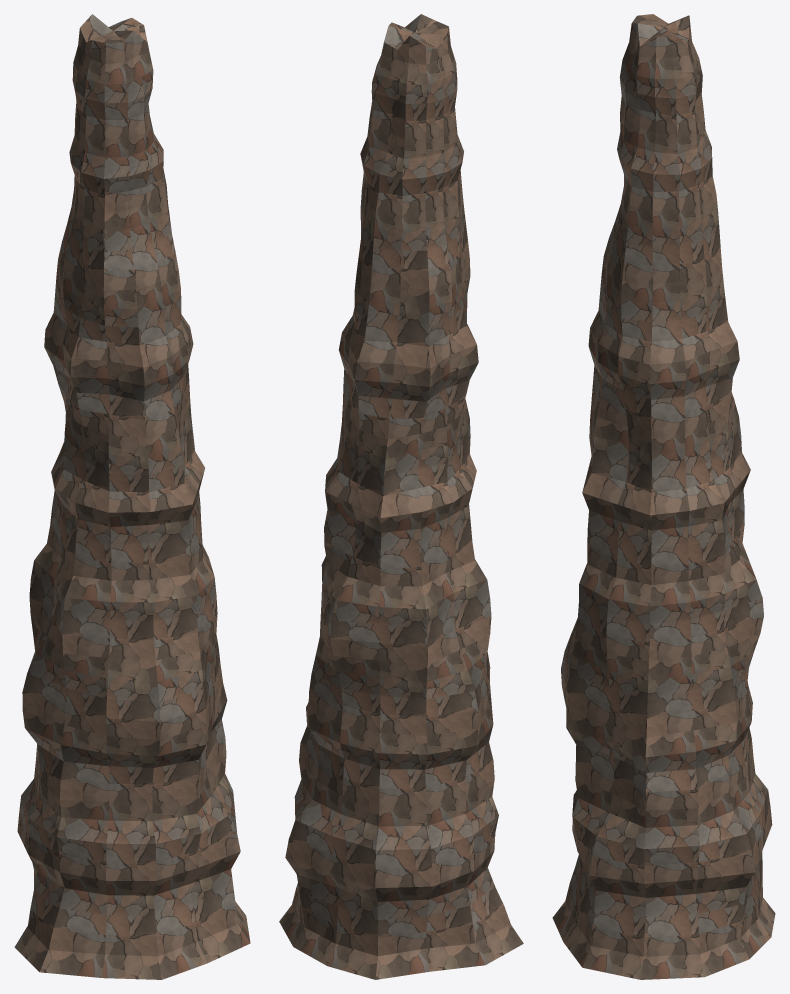
The model's file is CanyonSpireS_Stump.gltf.
The picture shows the model from 3 angles, left to right: view 1: azimuth 30°, elevation 25°; view 2: azimuth 150°, elevation 25°; view 3: azimuth 270°, elevation 25°; orthographic projection.
Visible parts, largest first — view 1: CanyonSpireS_Stump; view 2: CanyonSpireS_Stump; view 3: CanyonSpireS_Stump.
Part boxes in pixels (x1,y1,x2,y2): CanyonSpireS_Stump: (14,14,250,979); CanyonSpireS_Stump: (279,14,523,979); CanyonSpireS_Stump: (552,14,775,979).
Bounding box in the file's own units: 24.59 × 101 × 22.61.
Materials: 1 (1 with a texture image).
